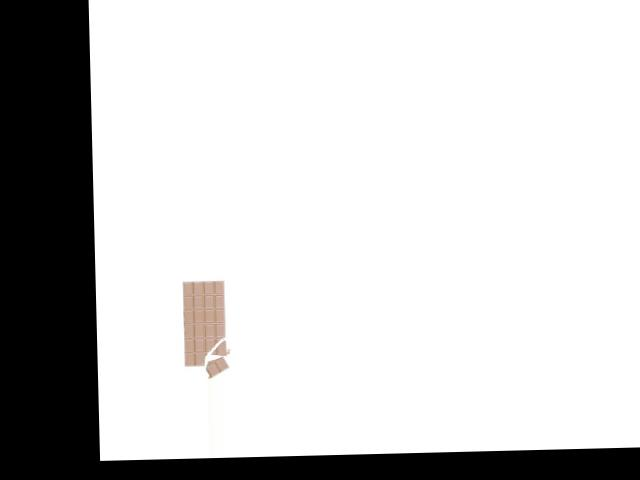chocolate: (175, 278, 240, 380)
